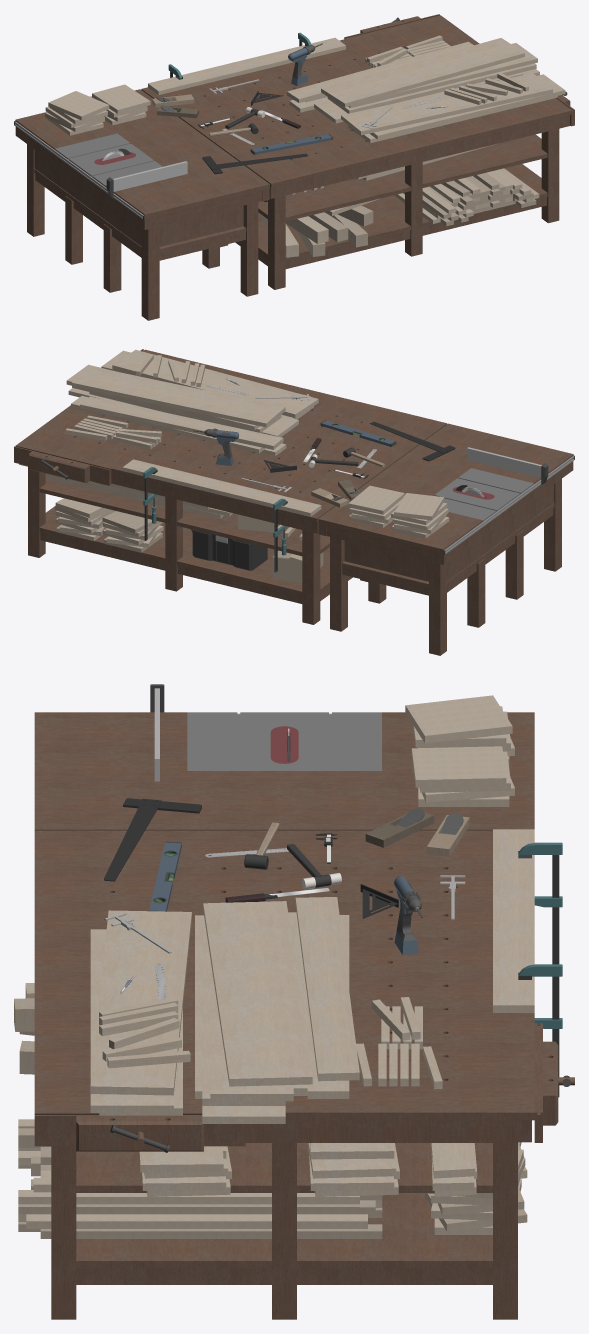
File: workbench.glb
3 views of the same model, one above another, from view 1: azimuth 30°, elevation 25°; view 2: azimuth 150°, elevation 25°; view 3: azimuth 270°, elevation 25° (orthographic). The views are drawn at different scales.
Visible parts, largest first — view 1: _3DGeom185, _3DGeom28 (×9), _3DGeom312, _3DGeom1 (×6), _3DGeom273, _3DGeom17, _3DGeom186, _3DGeom23 (×5), _3DGeom313, _3DGeom297 (×2), _3DGeom305, _3DGeom176 (×2) (+11 smaller); view 2: _3DGeom185, _3DGeom28 (×10), _3DGeom1 (×6), _3DGeom312, _3DGeom273, _3DGeom186, _3DGeom313, _3DGeom17, _3DGeom187 (×2), _3DGeom297 (×2), _3DGeom305, _3DGeom176 (×2) (+15 smaller); view 3: _3DGeom185, _3DGeom28 (×17), _3DGeom312, _3DGeom186, _3DGeom23 (×4), _3DGeom1 (×3), _3DGeom313, _3DGeom176 (×4), _3DGeom273, _3DGeom191 (×2), _3DGeom19, _3DGeom7 (×2) (+7 smaller).
Part boxes in pixels (<box>): _3DGeom185: <box>141,15,571,187</box>; _3DGeom28 (×9): <box>148,37,565,143</box>; _3DGeom312: <box>15,89,269,218</box>; _3DGeom1 (×6): <box>27,129,559,320</box>; _3DGeom273: <box>258,134,547,221</box>; _3DGeom17: <box>269,115,569,198</box>; _3DGeom186: <box>258,164,547,260</box>; _3DGeom23 (×5): <box>258,205,373,257</box>; _3DGeom313: <box>55,133,162,186</box>; _3DGeom297 (×2): <box>65,196,121,292</box>; _3DGeom305: <box>34,150,141,246</box>; _3DGeom176 (×2): <box>48,84,150,120</box>; _3DGeom185: <box>16,350,447,522</box>; _3DGeom28 (×10): <box>45,349,321,518</box>; _3DGeom1 (×6): <box>28,466,561,655</box>; _3DGeom312: <box>318,423,573,553</box>; _3DGeom273: <box>39,479,329,556</box>; _3DGeom186: <box>39,506,329,595</box>; _3DGeom313: <box>433,468,533,521</box>; _3DGeom17: <box>111,472,318,533</box>; _3DGeom187 (×2): <box>40,532,302,603</box>; _3DGeom297 (×2): <box>467,530,523,627</box>; _3DGeom305: <box>447,484,553,581</box>; _3DGeom176 (×2): <box>348,485,444,520</box>; _3DGeom185: <box>34,830,534,1120</box>; _3DGeom28 (×17): <box>90,829,534,1190</box>; _3DGeom312: <box>34,712,534,830</box>; _3DGeom186: <box>76,1193,492,1268</box>; _3DGeom23 (×4): <box>18,1190,382,1238</box>; _3DGeom1 (×3): <box>51,1143,517,1319</box>; _3DGeom313: <box>187,712,381,770</box>; _3DGeom176 (×4): <box>405,695,514,802</box>; _3DGeom273: <box>76,1143,492,1192</box>; _3DGeom191 (×2): <box>76,1268,492,1284</box>; _3DGeom19: <box>245,1120,517,1142</box>; _3DGeom7 (×2): <box>76,1041,558,1151</box>.
Size of the model in its own units: 3.6 by 1.1 by 2.02.
45 materials, 44 textured.
